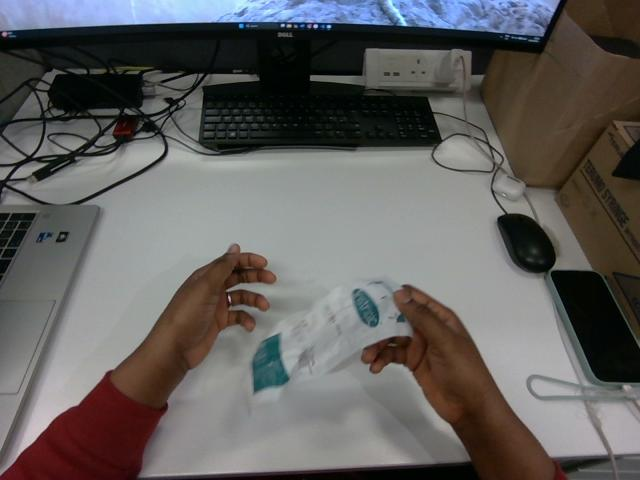gallipot: (251, 278, 412, 404)
